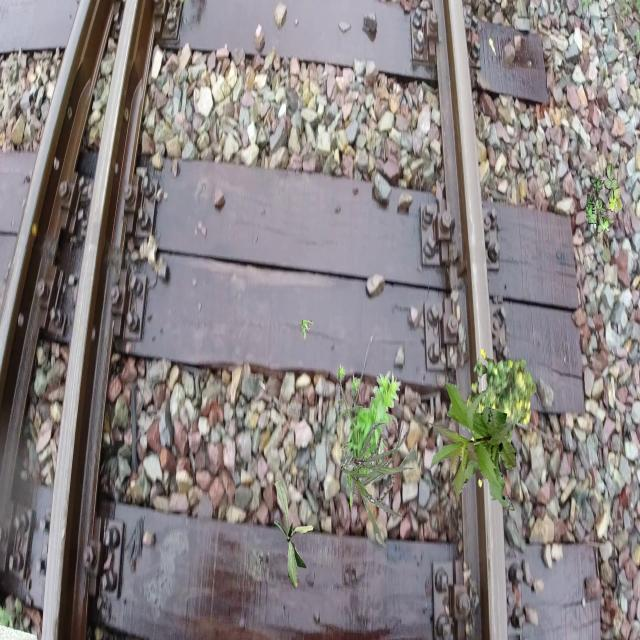Plant: (428, 381, 516, 511), (462, 348, 537, 488), (336, 363, 401, 506), (341, 423, 414, 548), (274, 479, 314, 589), (585, 163, 622, 237), (299, 320, 313, 340)
